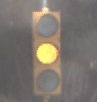Yellow: (23, 5, 71, 102)
